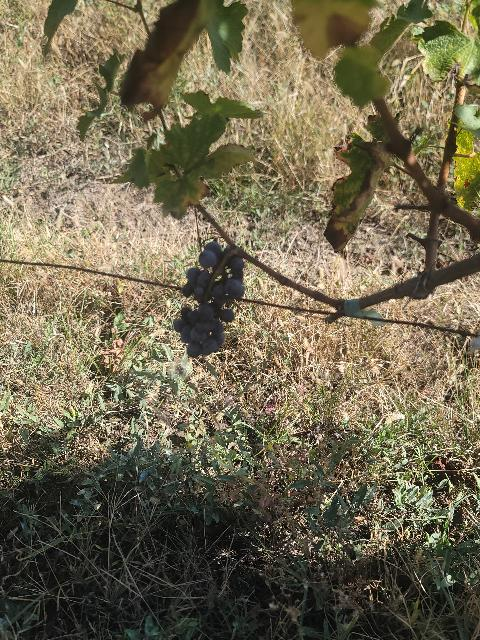grapes: (174, 241, 245, 358)
